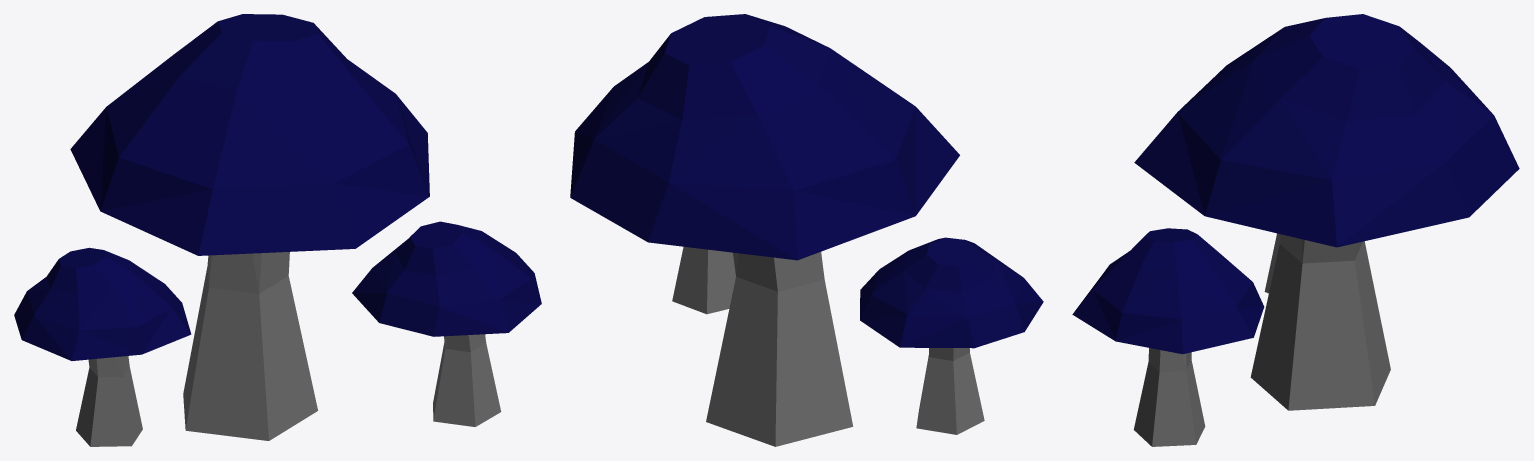
The model's file is Mushroom_05.obj.
3 renders of one model, left to right at view 1: azimuth 30°, elevation 25°; view 2: azimuth 150°, elevation 25°; view 3: azimuth 270°, elevation 25°, orthographic. The views are drawn at different scales.
Visible parts, largest first — view 1: Mushroom_05_Cylinder.004; view 2: Mushroom_05_Cylinder.004; view 3: Mushroom_05_Cylinder.004.
Part boxes in pixels (x1,y1,x2,y2): Mushroom_05_Cylinder.004: (14, 14, 541, 446); Mushroom_05_Cylinder.004: (570, 14, 1043, 446); Mushroom_05_Cylinder.004: (1072, 14, 1519, 446).
Bounding box in the file's own units: 1.32 × 1.04 × 1.14.
